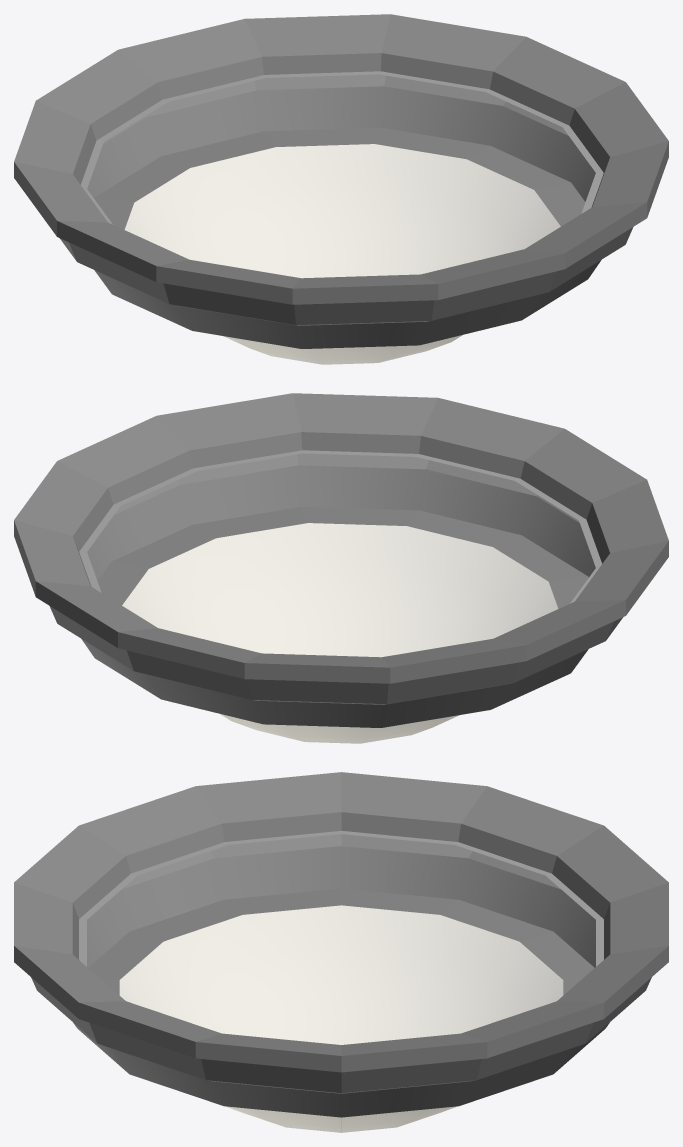
The model's file is ceiling_light 1.fbx.
3 renders of one model, top to bottom at view 1: azimuth 30°, elevation 25°; view 2: azimuth 150°, elevation 25°; view 3: azimuth 270°, elevation 25°, orthographic. The views are drawn at different scales.
Parts seen in each view (by area): view 1: ceiling_light; view 2: ceiling_light; view 3: ceiling_light.
Part boxes in pixels (x1,y1,x2,y2): ceiling_light: [14, 14, 668, 364]; ceiling_light: [14, 393, 668, 743]; ceiling_light: [14, 772, 668, 1132].
Size of the model in its own units: 0.84 by 0.2658 by 0.8189.
